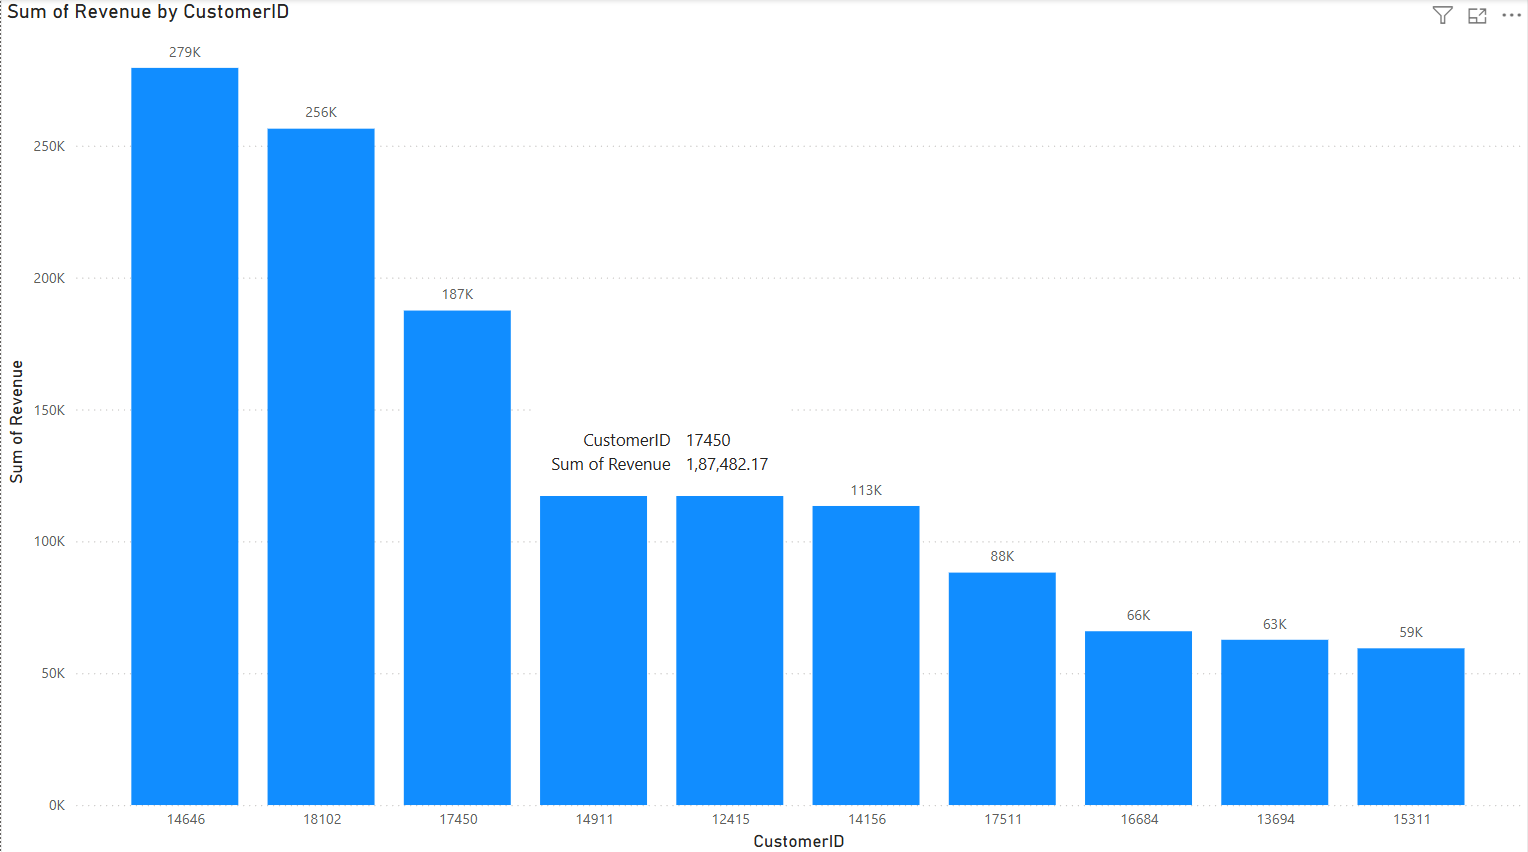

The dashboard page shown, as its layout file describes it:
{"tool":"powerbi","page":{"name":"Question 3","canvas":[1280,720],"ordinal":2},"visuals":[{"type":"clusteredColumnChart","fields":{"Category":["Online Retail.CustomerID"],"Y":["Sum(Online Retail.Revenue)"]},"box":[0,0,1280,720],"z":0}]}

Visuals, with their boxes in screenshot pixels (x1, y1, x2, y2), scaled from the page's 1280x720 canvas onto the 1528x852 screenshot:
clusteredColumnChart - Online Retail.CustomerID x Sum(Online Retail.Revenue): [0,0,1527,851]
